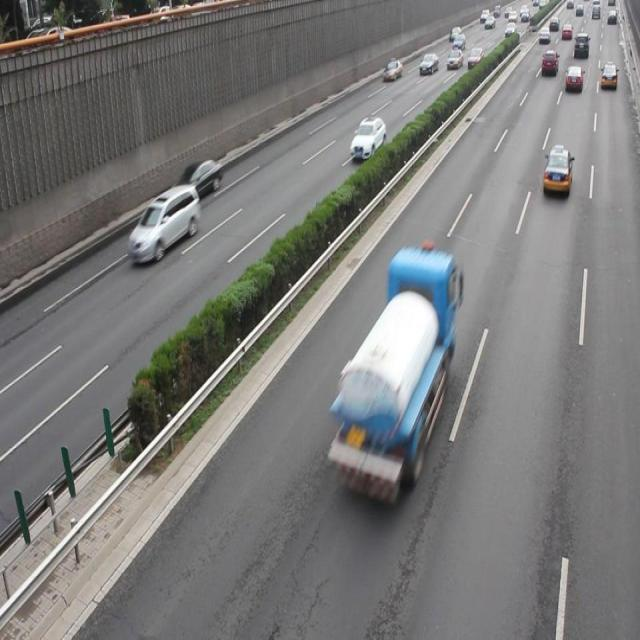bus: (325, 244, 457, 483)
car: (177, 158, 222, 198), (350, 115, 385, 160), (542, 146, 572, 192)
truck: (128, 182, 201, 261)
